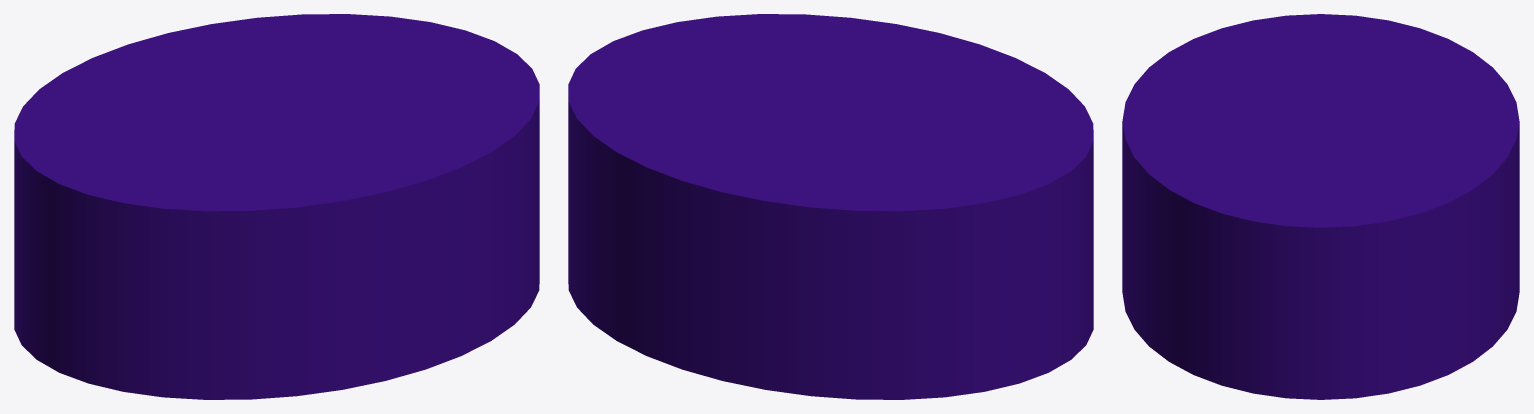
The model's file is purple.FBX.
3 renders of one model, left to right at view 1: azimuth 30°, elevation 25°; view 2: azimuth 150°, elevation 25°; view 3: azimuth 270°, elevation 25°, orthographic. The views are drawn at different scales.
Visible parts, largest first — view 1: Cylinder001; view 2: Cylinder001; view 3: Cylinder001.
Boxes of the visible parts, x1,y1,x2,y2 form: Cylinder001: (14, 14, 539, 399); Cylinder001: (568, 14, 1093, 399); Cylinder001: (1122, 14, 1519, 399).
Bounding box in the file's own units: 40 × 15.02 × 31.39.
